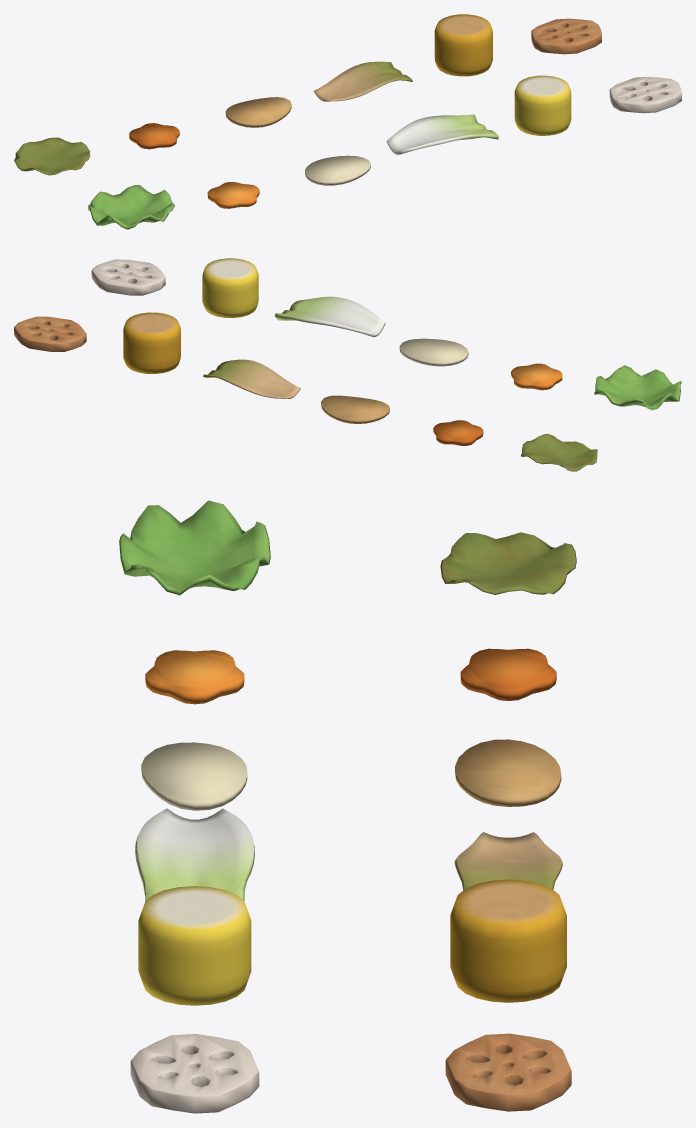
The model's file is Phase2_Vegetables_P1.glb.
3 views of the same model, one above another, from view 1: azimuth 30°, elevation 25°; view 2: azimuth 150°, elevation 25°; view 3: azimuth 270°, elevation 25° (orthographic). The views are drawn at different scales.
Visible parts, largest first — view 1: CornCob_Cooked, CornCob_Raw, Lettuce_Raw, NapaCabbage_Raw, LotusRoot_Raw, Lettuce_Cooked, NapaCabbage_Cooked, LotusRoot_Cooked, Potato_Cooked, Potato_Raw, Carrot_Raw, Carrot_Cooked; view 2: CornCob_Cooked, CornCob_Raw, Lettuce_Raw, NapaCabbage_Raw, LotusRoot_Raw, NapaCabbage_Cooked, LotusRoot_Cooked, Lettuce_Cooked, Potato_Raw, Potato_Cooked, Carrot_Raw, Carrot_Cooked; view 3: CornCob_Cooked, CornCob_Raw, Lettuce_Raw, NapaCabbage_Raw, LotusRoot_Raw, LotusRoot_Cooked, Lettuce_Cooked, Potato_Cooked, Potato_Raw, NapaCabbage_Cooked, Carrot_Raw, Carrot_Cooked.
Boxes of the visible parts, x1=… form: CornCob_Cooked: x1=434, y1=14, x2=492, y2=76; CornCob_Raw: x1=514, y1=75, x2=571, y2=135; Lettuce_Raw: x1=88, y1=185, x2=174, y2=229; NapaCabbage_Raw: x1=386, y1=114, x2=498, y2=155; LotusRoot_Raw: x1=609, y1=77, x2=681, y2=113; Lettuce_Cooked: x1=14, y1=137, x2=90, y2=175; NapaCabbage_Cooked: x1=313, y1=61, x2=412, y2=101; LotusRoot_Cooked: x1=531, y1=18, x2=601, y2=54; Potato_Cooked: x1=225, y1=97, x2=291, y2=127; Potato_Raw: x1=305, y1=155, x2=370, y2=185; Carrot_Raw: x1=207, y1=182, x2=259, y2=208; Carrot_Cooked: x1=129, y1=123, x2=179, y2=149; CornCob_Cooked: x1=123, y1=312, x2=180, y2=373; CornCob_Raw: x1=202, y1=258, x2=258, y2=317; Lettuce_Raw: x1=594, y1=365, x2=681, y2=410; NapaCabbage_Raw: x1=275, y1=296, x2=385, y2=337; LotusRoot_Raw: x1=91, y1=259, x2=165, y2=295; NapaCabbage_Cooked: x1=203, y1=359, x2=300, y2=398; LotusRoot_Cooked: x1=14, y1=316, x2=86, y2=351; Lettuce_Cooked: x1=521, y1=434, x2=598, y2=471; Potato_Raw: x1=399, y1=338, x2=468, y2=366; Potato_Cooked: x1=321, y1=395, x2=389, y2=423; Carrot_Raw: x1=511, y1=363, x2=562, y2=390; Carrot_Cooked: x1=433, y1=420, x2=483, y2=445; CornCob_Cooked: x1=450, y1=879, x2=566, y2=1002; CornCob_Raw: x1=138, y1=886, x2=251, y2=1005; Lettuce_Raw: x1=119, y1=500, x2=270, y2=595; NapaCabbage_Raw: x1=135, y1=808, x2=254, y2=901; LotusRoot_Raw: x1=130, y1=1034, x2=259, y2=1113; LotusRoot_Cooked: x1=445, y1=1033, x2=571, y2=1111; Lettuce_Cooked: x1=440, y1=532, x2=576, y2=594; Potato_Cooked: x1=455, y1=739, x2=561, y2=806; Potato_Raw: x1=141, y1=742, x2=247, y2=810; NapaCabbage_Cooked: x1=454, y1=832, x2=562, y2=889; Carrot_Raw: x1=145, y1=650, x2=244, y2=704; Carrot_Cooked: x1=460, y1=648, x2=556, y2=700.
Bounding box in the file's own units: 0.5126 × 0.0345 × 0.1751.
Materials: 12 (12 with a texture image).
